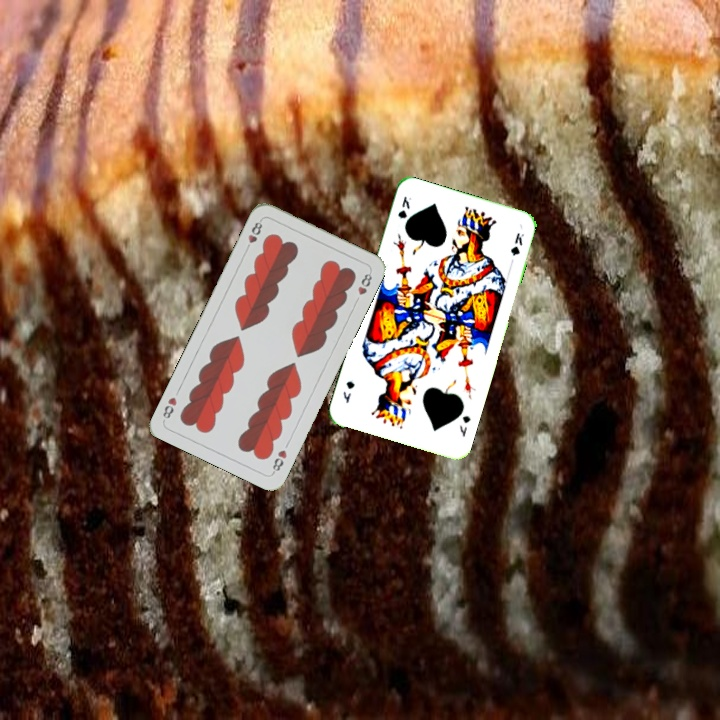GK: (394, 192, 414, 221), (455, 411, 473, 440)
H8: (241, 216, 265, 254), (268, 446, 290, 476)
